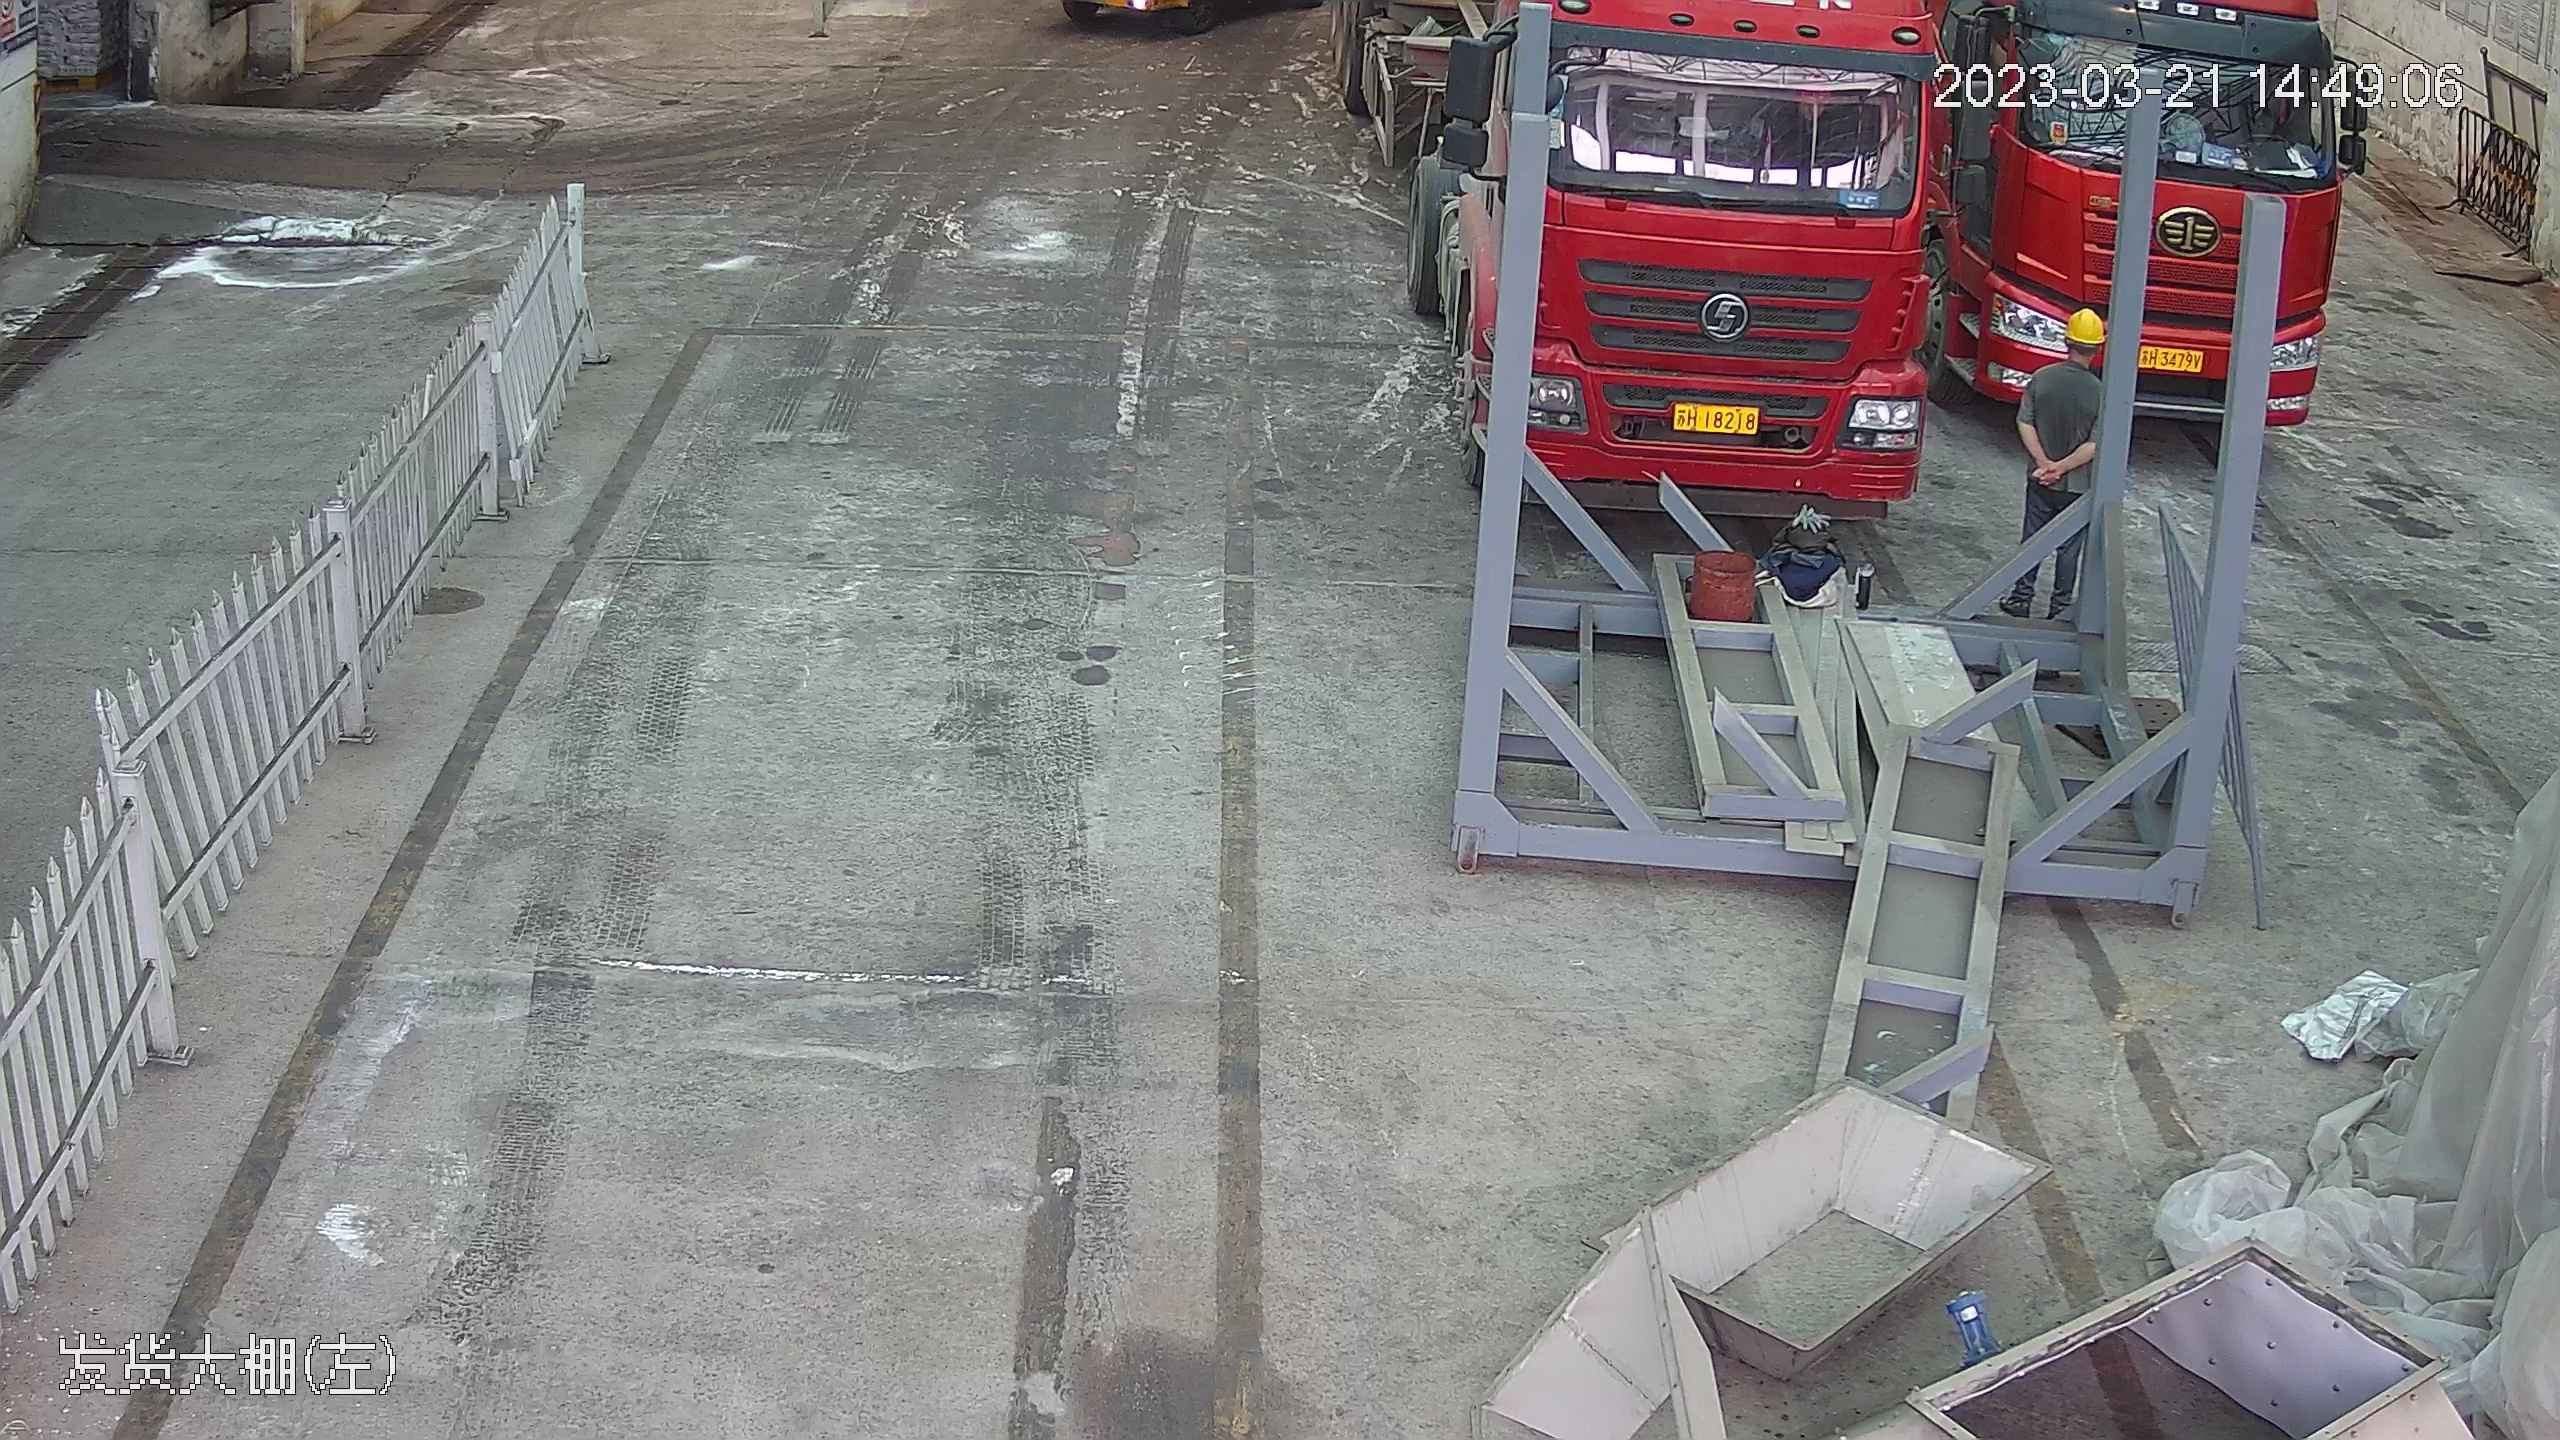head: (2041, 308, 2108, 406)
helmet: (2060, 305, 2107, 344)
people: (1997, 302, 2111, 613)
truck: (1476, 2, 1939, 500), (1930, 4, 2365, 424)
